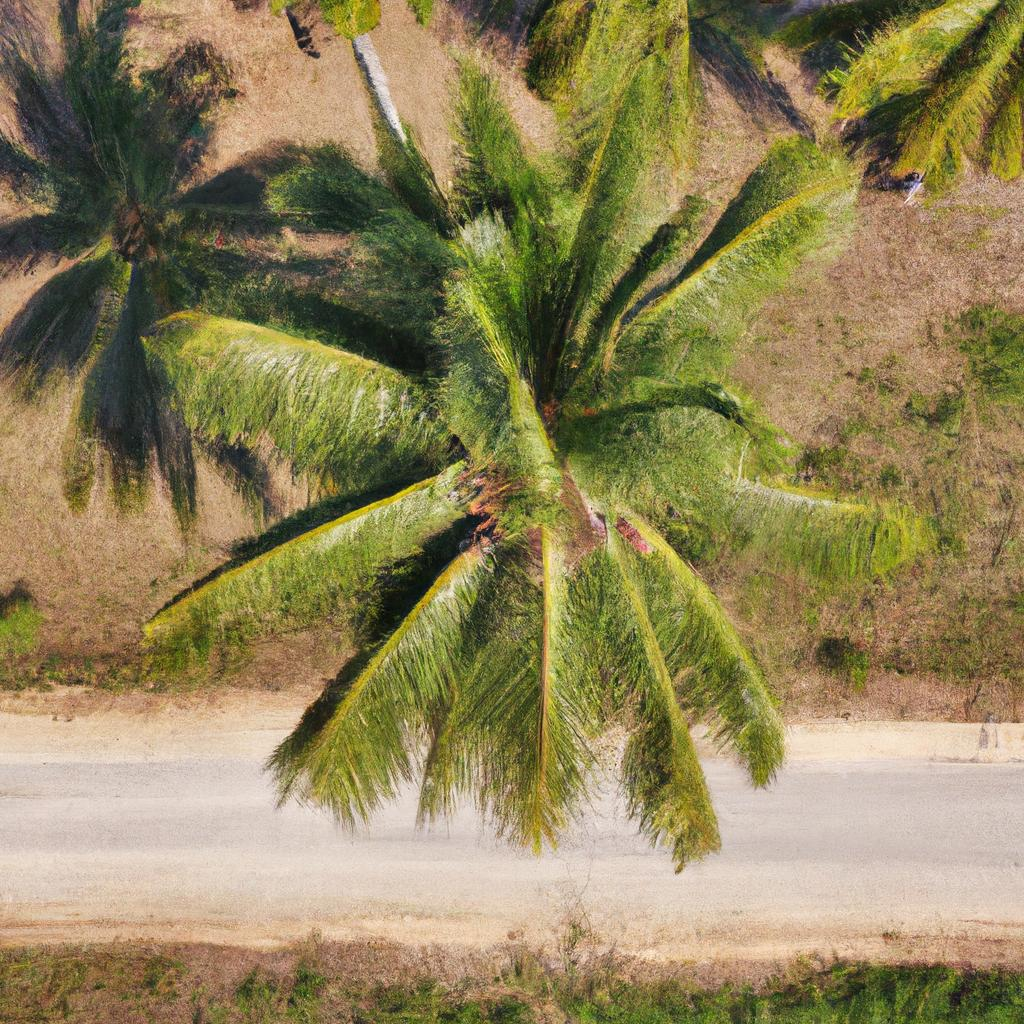coconut_tree: (70, 2, 939, 897)
